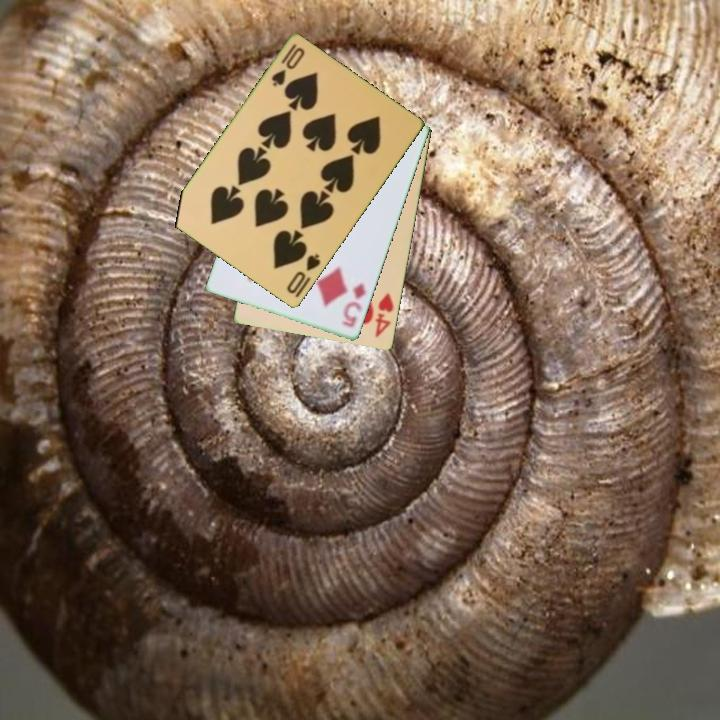10s: (268, 40, 308, 90), (283, 250, 324, 297)
4h: (372, 290, 397, 340)
5d: (338, 279, 369, 330)
